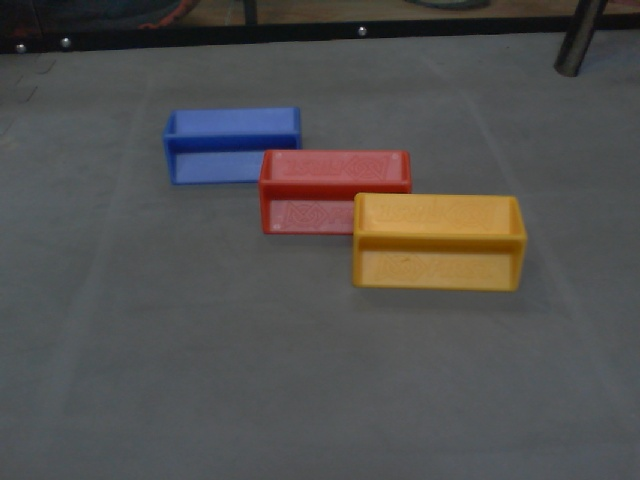BlueSample: (160, 107, 305, 188)
RedSample: (259, 150, 413, 235)
YellowSample: (351, 190, 529, 294)
